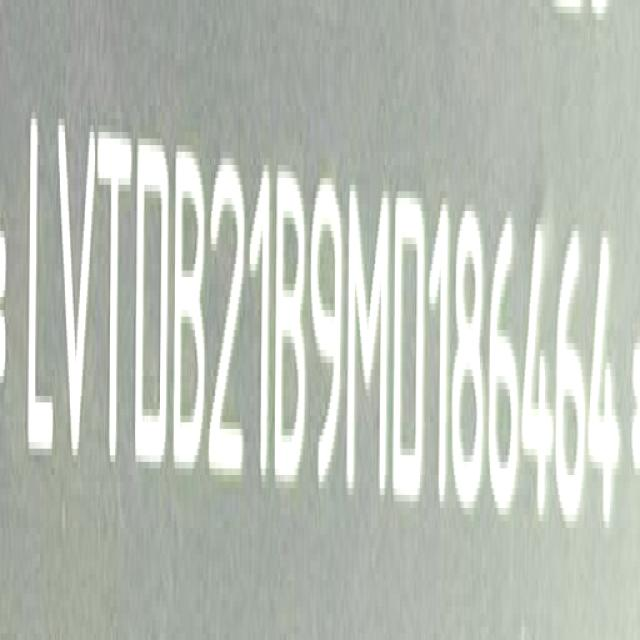1: (250, 156, 274, 495), (428, 187, 452, 518)
2: (209, 151, 247, 492)
4: (592, 224, 626, 542), (522, 215, 556, 530)
6: (555, 224, 588, 536), (490, 206, 522, 524)
8: (454, 198, 488, 521)
9: (311, 170, 345, 503)
B: (174, 138, 210, 488), (274, 158, 308, 496)
D: (135, 123, 172, 482), (395, 177, 430, 513)
L: (20, 103, 55, 472)
M: (347, 169, 392, 511)
T: (97, 115, 134, 480)
V: (53, 108, 96, 475)
